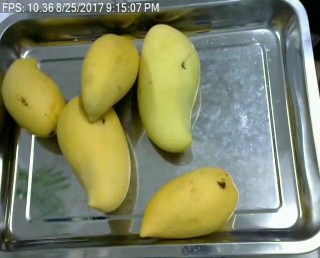Mango: (130, 20, 202, 155), (56, 95, 133, 211), (142, 165, 239, 240), (77, 32, 142, 122), (0, 56, 69, 139)
